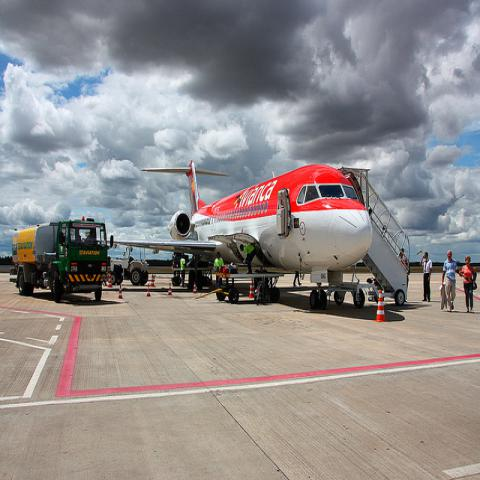truck: (10, 215, 110, 302), (109, 245, 148, 285)
